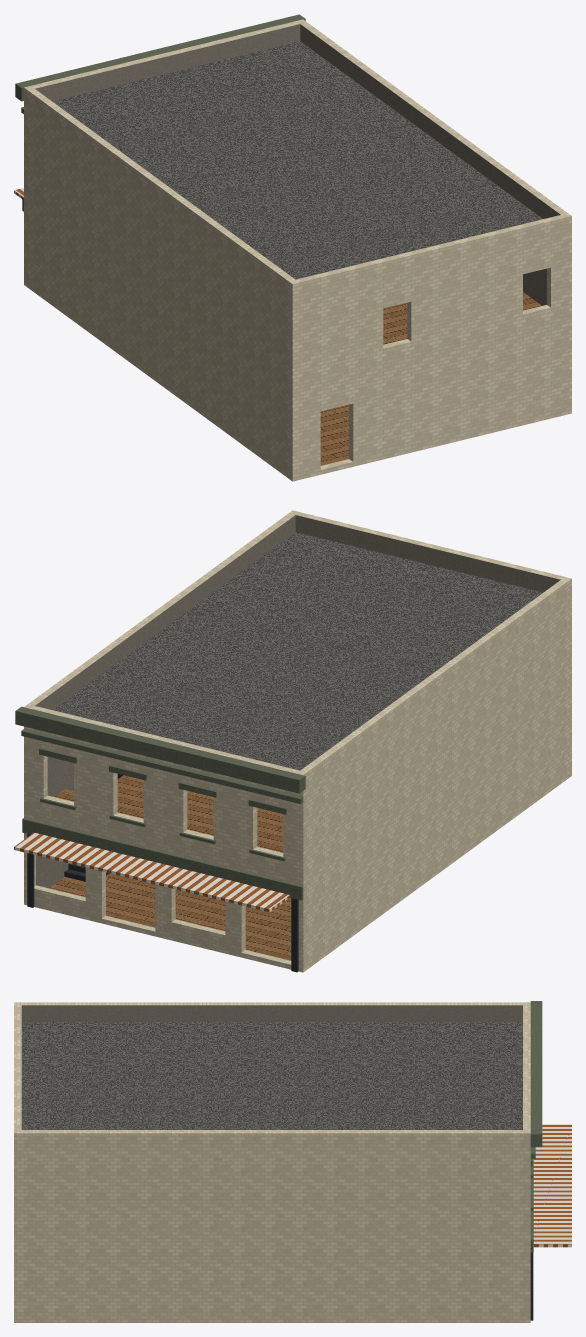
File: main_street_cream_12m_2st.glb
3 views of the same model, one above another, from view 1: azimuth 30°, elevation 25°; view 2: azimuth 150°, elevation 25°; view 3: azimuth 270°, elevation 25° (orthographic). The views are drawn at different scales.
Visible parts, largest first — view 1: main_street_cream_12m_2st; view 2: main_street_cream_12m_2st; view 3: main_street_cream_12m_2st.
Boxes of the visible parts, x1,y1,x2,y2 form: main_street_cream_12m_2st: [14, 14, 571, 481]; main_street_cream_12m_2st: [14, 510, 571, 972]; main_street_cream_12m_2st: [14, 1001, 571, 1322].
Size of the model in its own units: 12.2 by 8.1 by 21.6.
Materials: 7 (7 with a texture image).
